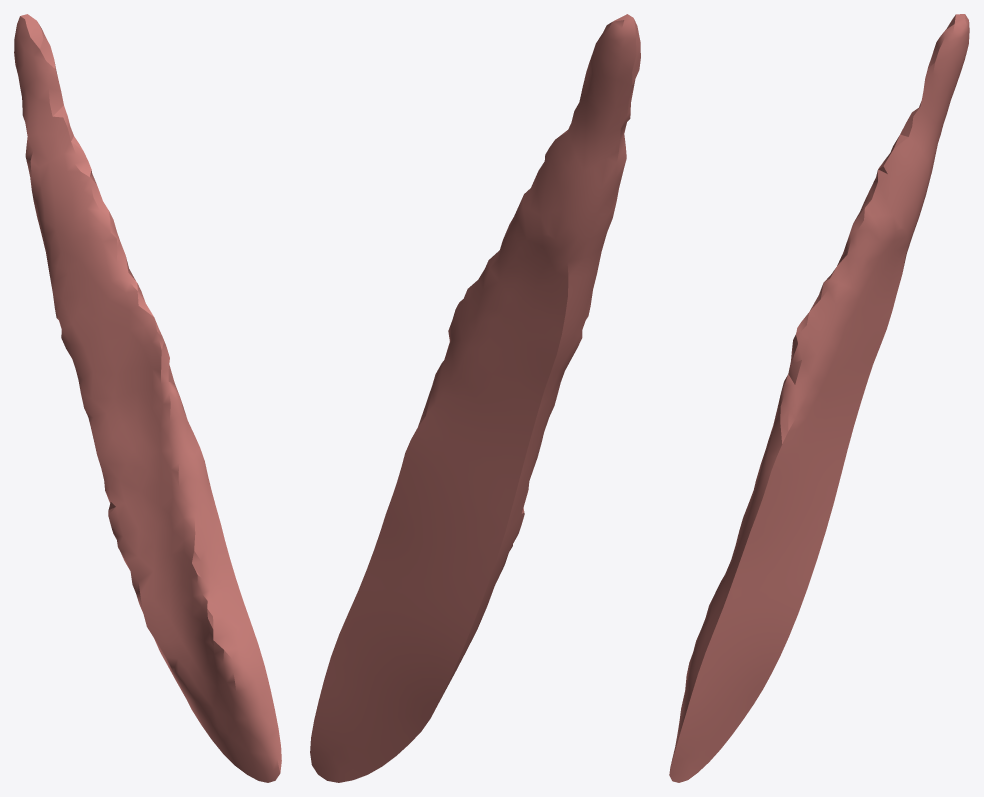
File: fma40796-n_mm1856m.glb
The picture shows the model from 3 angles, left to right: view 1: azimuth 30°, elevation 25°; view 2: azimuth 210°, elevation 25°; view 3: azimuth 270°, elevation 25°; orthographic projection. The views are drawn at different scales.
Visible parts, largest first — view 1: FMA40796-N_MM1856M; view 2: FMA40796-N_MM1856M; view 3: FMA40796-N_MM1856M.
Part boxes in pixels (box(x1,y1,x2,y2)): FMA40796-N_MM1856M: box(14, 14, 281, 782); FMA40796-N_MM1856M: box(310, 14, 640, 782); FMA40796-N_MM1856M: box(669, 14, 969, 782).
Bounding box in the file's own units: 0.0152 × 0.0773 × 0.0295.
